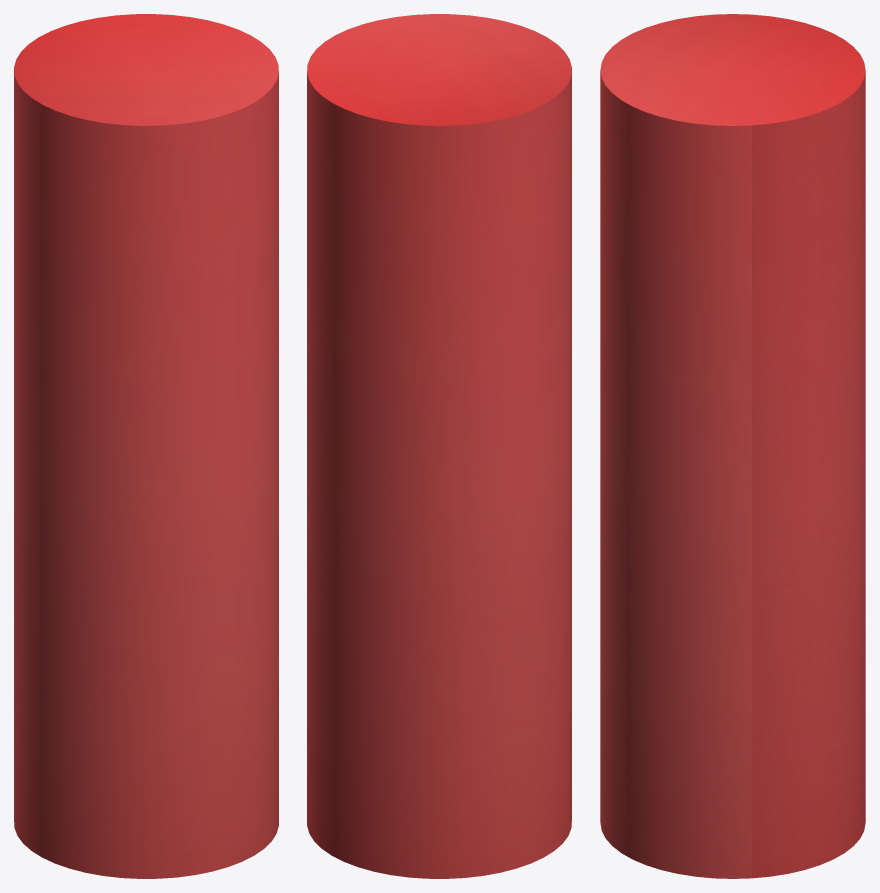
The model's file is 71u4jmha3r1l.obj.
3 views of the same model, side by side, from view 1: azimuth 30°, elevation 25°; view 2: azimuth 150°, elevation 25°; view 3: azimuth 270°, elevation 25° (orthographic).
Visible parts, largest first — view 1: pasted__pCylinder3 group1; view 2: pasted__pCylinder3 group1; view 3: pasted__pCylinder3 group1.
Part boxes in pixels (x1,y1,x2,y2): pasted__pCylinder3 group1: (14,14,278,878); pasted__pCylinder3 group1: (307,14,571,878); pasted__pCylinder3 group1: (600,14,865,878).
Bounding box in the file's own units: 2.53 × 7.92 × 2.53.
Materials: 1 (1 with a texture image).
